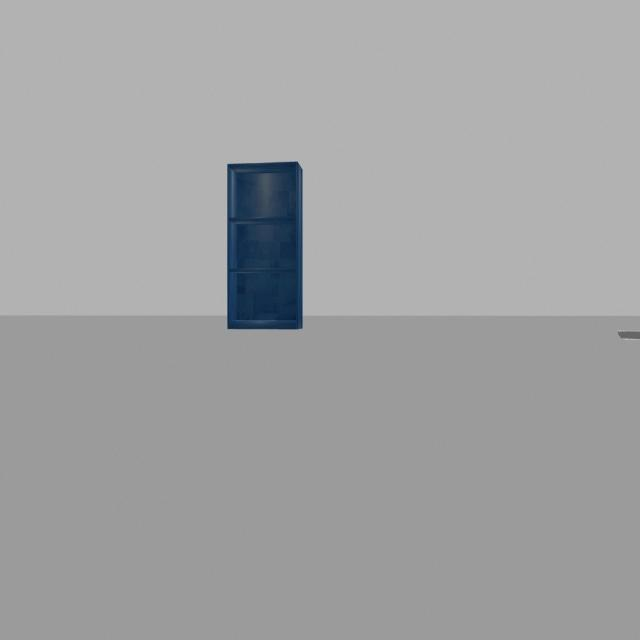bowl: (612, 323, 640, 346)
shelf: (215, 152, 314, 338)
